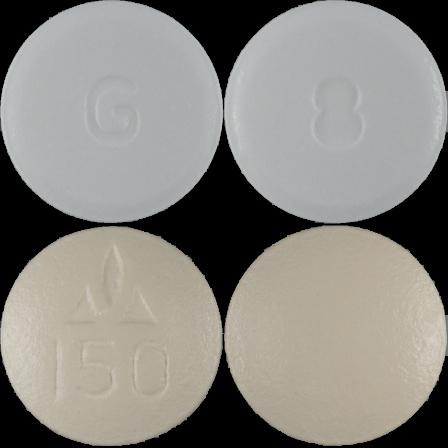55154-3683: (0, 0, 224, 224)
